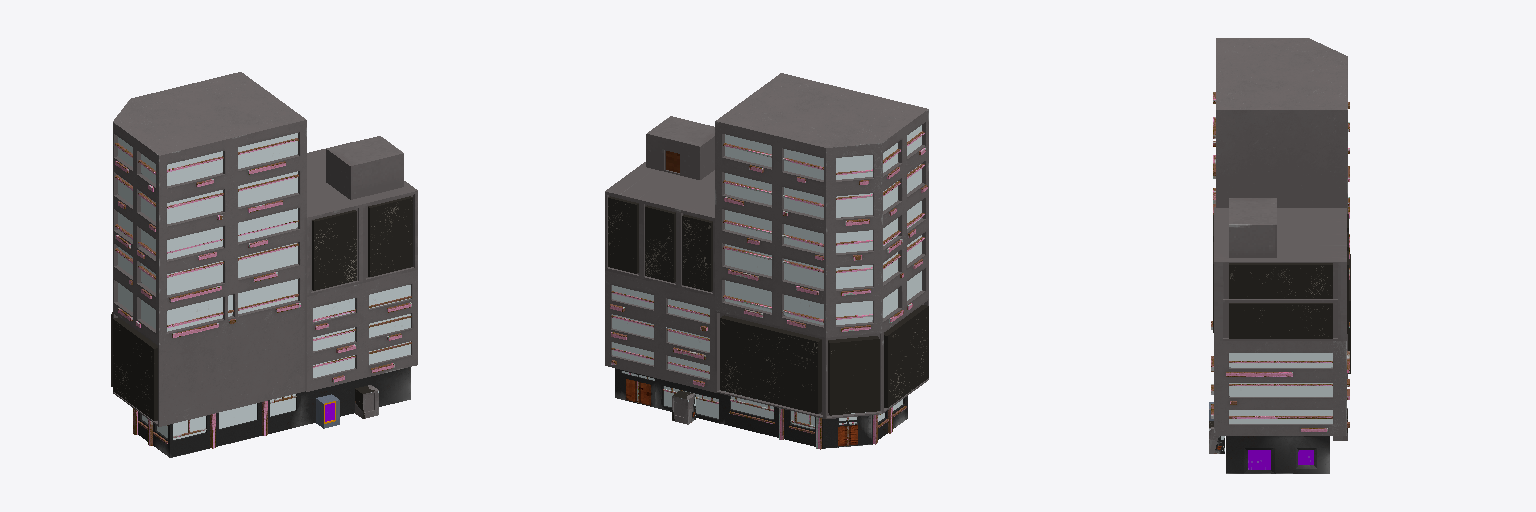
3 renders of one model, left to right at view 1: azimuth 30°, elevation 25°; view 2: azimuth 150°, elevation 25°; view 3: azimuth 270°, elevation 25°, orthographic.
Visible parts, largest first — view 1: ComplexBuilding pCube277, ComplexBuilding pCube483, ComplexBuilding pCube264, ComplexBuilding pCube484, ComplexBuilding pCube270, ComplexBuilding pCube269; view 2: ComplexBuilding pCube277, ComplexBuilding pCube483, ComplexBuilding pCube264, ComplexBuilding pCube484, ComplexBuilding pCube271; view 3: ComplexBuilding pCube483, ComplexBuilding pCube277, ComplexBuilding pCube264, ComplexBuilding pCube484.
Part boxes in pixels (left/top/right/bottom): ComplexBuilding pCube277: left=111, top=72, right=306, bottom=426; ComplexBuilding pCube483: left=306, top=142, right=417, bottom=391; ComplexBuilding pCube264: left=138, top=367, right=410, bottom=457; ComplexBuilding pCube484: left=326, top=136, right=403, bottom=199; ComplexBuilding pCube270: left=355, top=385, right=378, bottom=418; ComplexBuilding pCube269: left=316, top=394, right=339, bottom=428; ComplexBuilding pCube277: left=715, top=73, right=928, bottom=418; ComplexBuilding pCube483: left=605, top=162, right=715, bottom=392; ComplexBuilding pCube264: left=615, top=368, right=907, bottom=448; ComplexBuilding pCube484: left=646, top=116, right=714, bottom=179; ComplexBuilding pCube271: left=672, top=390, right=695, bottom=424; ComplexBuilding pCube483: left=1213, top=207, right=1348, bottom=435; ComplexBuilding pCube277: left=1216, top=38, right=1350, bottom=378; ComplexBuilding pCube264: left=1226, top=436, right=1329, bottom=473; ComplexBuilding pCube484: left=1229, top=198, right=1276, bottom=257.
Bounding box in the file's own units: 62.46 × 70.44 × 29.05.
1 materials, 1 textured.